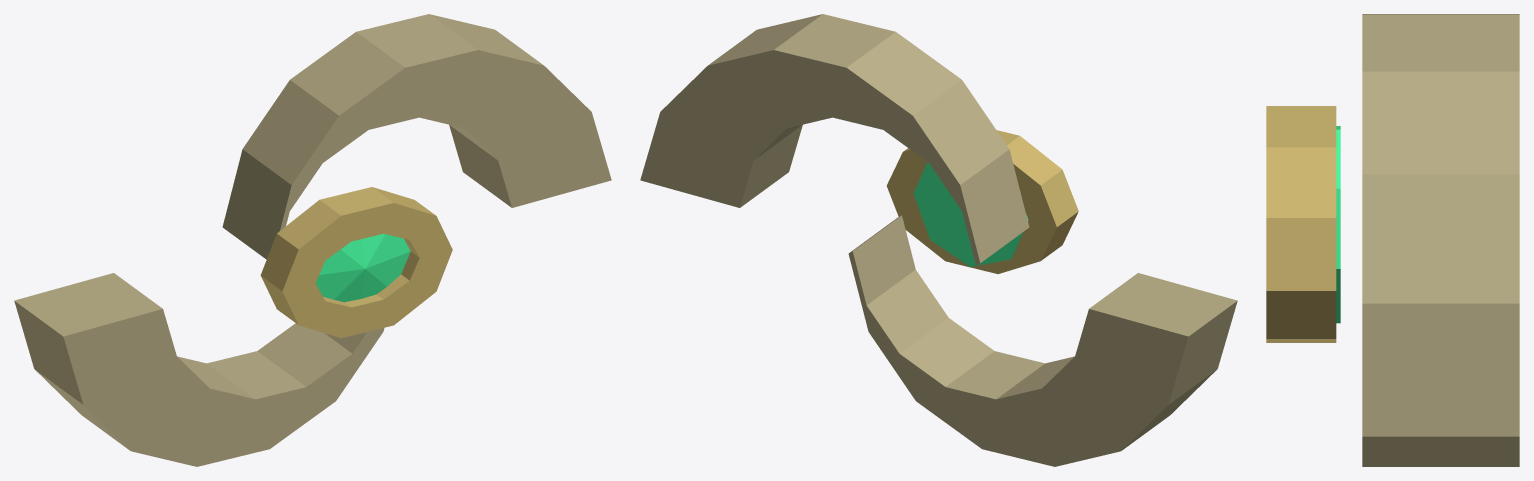
Rendered from crescent.obj.
3 views of the same model, side by side, from view 1: azimuth 30°, elevation 25°; view 2: azimuth 150°, elevation 25°; view 3: azimuth 270°, elevation 25° (orthographic). The views are drawn at different scales.
Visible parts, largest first — view 1: right_crescent, left_crescent, right_crescent_edge, crescent_edge, left_crescent_edge, crescent_guard_gem; view 2: right_crescent, left_crescent, left_crescent_edge, right_crescent_edge, crescent_edge, crescent_guard_gem; view 3: right_crescent_edge, crescent_edge, left_crescent_edge, crescent_guard_gem.
Boxes of the visible parts, x1,y1,x2,y2 form: right_crescent: (280, 50, 611, 230); left_crescent: (63, 309, 384, 466); right_crescent_edge: (222, 14, 543, 259); crescent_edge: (260, 187, 452, 338); left_crescent_edge: (14, 273, 366, 450); crescent_guard_gem: (315, 233, 410, 302); right_crescent: (640, 50, 979, 265); left_crescent: (848, 251, 1188, 466); left_crescent_edge: (850, 215, 1237, 450); right_crescent_edge: (708, 14, 1029, 262); crescent_edge: (886, 130, 1078, 273); crescent_guard_gem: (913, 162, 1028, 266); right_crescent_edge: (1362, 14, 1519, 436); crescent_edge: (1266, 106, 1336, 342); left_crescent_edge: (1362, 436, 1519, 466); crescent_guard_gem: (1336, 126, 1340, 323).
Size of the model in its own units: 1.16 by 0.7034 by 0.29.
